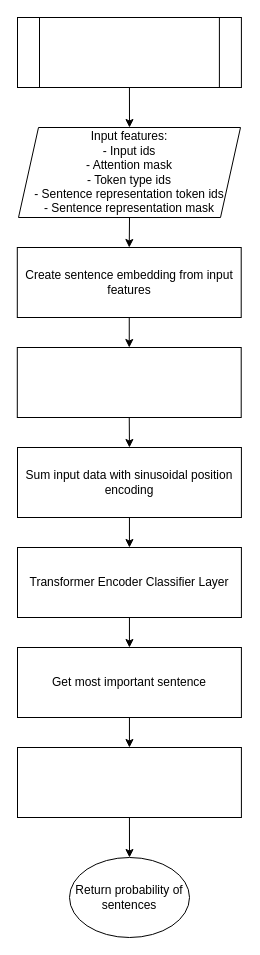
Image size: 260x955. Some labels were removed from this diagram. Each missing label, with the centre of its shape:
"Classify using sigmoid activation function in classification layer" belongs at point (128, 782).
"Forward pass BERT Summarization Model" belongs at point (128, 52).
"Get data from batch" belongs at point (128, 382).
